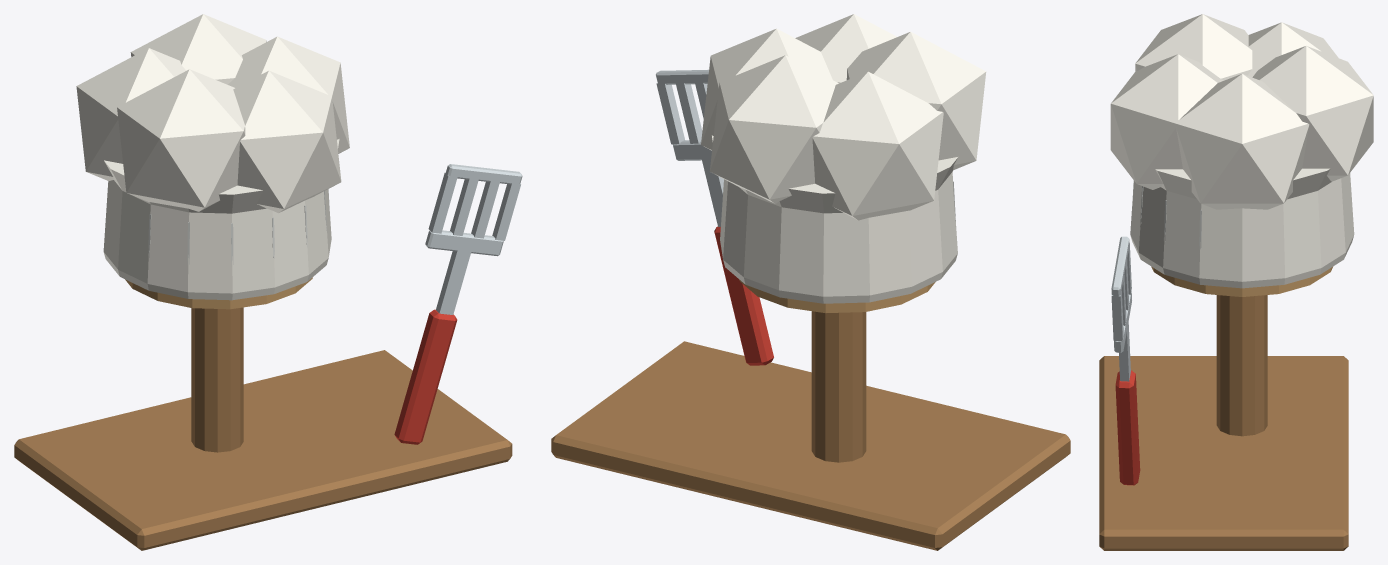
File: helper.glb
The picture shows the model from 3 angles, left to right: view 1: azimuth 30°, elevation 25°; view 2: azimuth 150°, elevation 25°; view 3: azimuth 270°, elevation 25°; orthographic projection. The views are drawn at different scales.
Visible parts, largest first — view 1: helper; view 2: helper; view 3: helper.
Part boxes in pixels (<box>): helper: <box>14,14,522,550</box>; helper: <box>551,14,1070,550</box>; helper: <box>1099,14,1373,550</box>.
Size of the model in its own units: 0.4312 by 0.444 by 0.2696.
